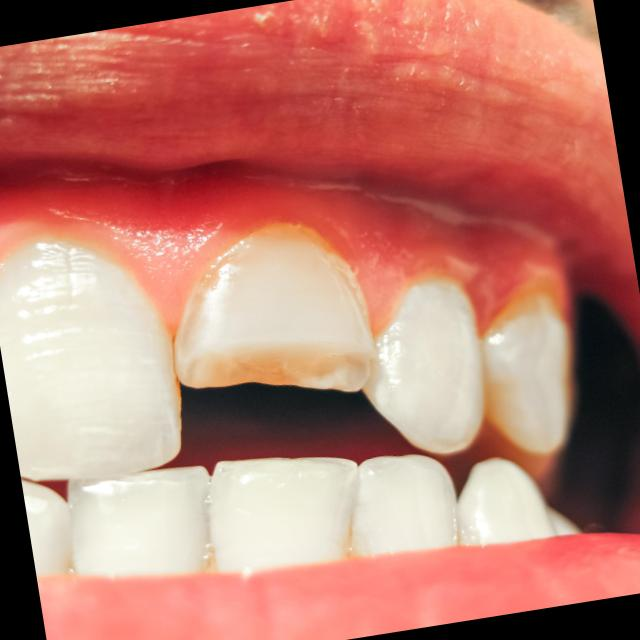Crack: (187, 342, 371, 391)
Tooth: (0, 242, 182, 481), (175, 223, 371, 392), (364, 281, 485, 454), (209, 457, 358, 571), (68, 465, 210, 573), (480, 292, 572, 451), (352, 455, 459, 556), (458, 460, 557, 545), (21, 479, 73, 575)
